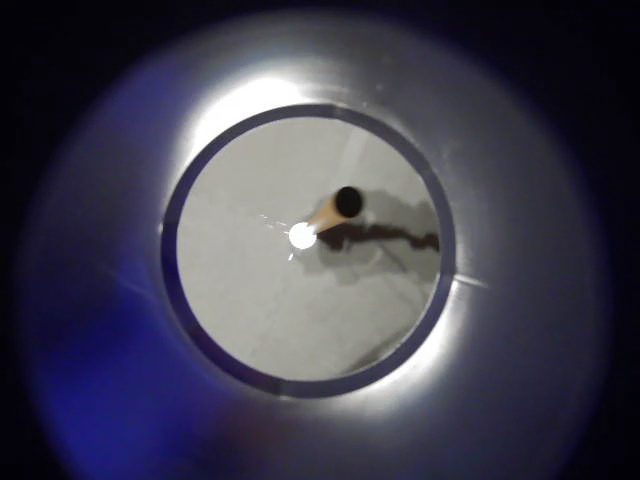tip: (319, 185, 372, 222)
